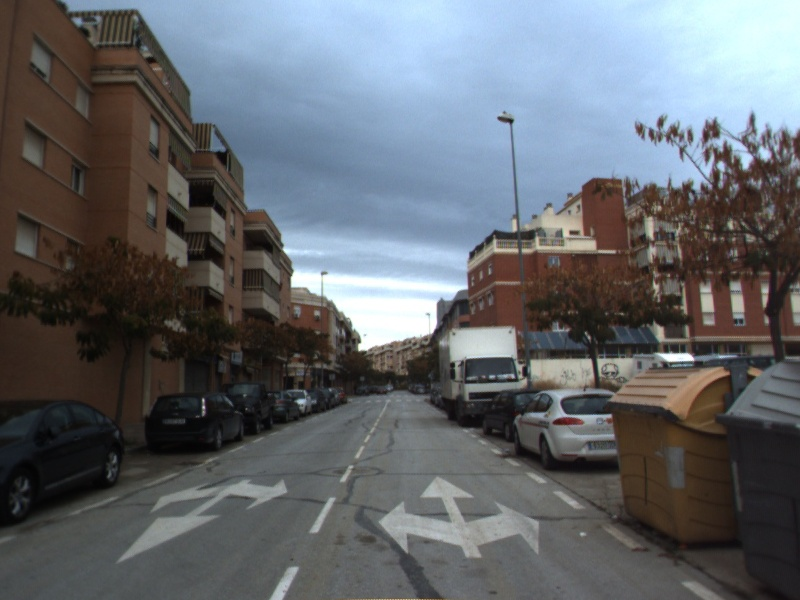STRAIGHT_LEFT_RIGHT: (376, 474, 542, 560)
